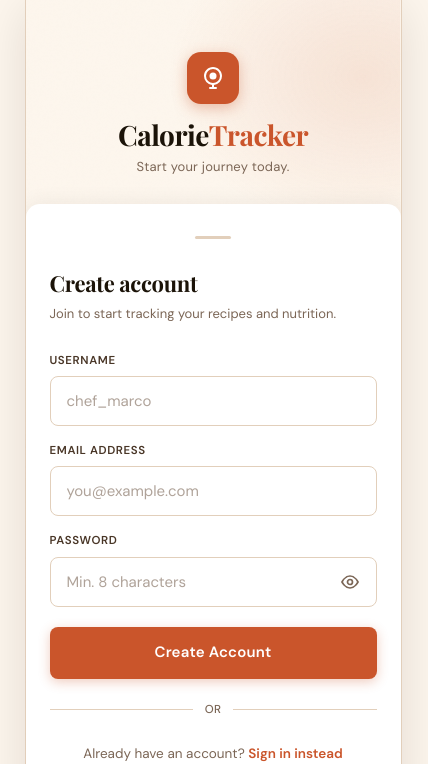
Test case: RegisterPage — validation › rejects a malformed email address
The image size is (428, 764).
Type "alice" into the field labelled "Username".
click(213, 401); type("alice")  # box [50,376,376,426]
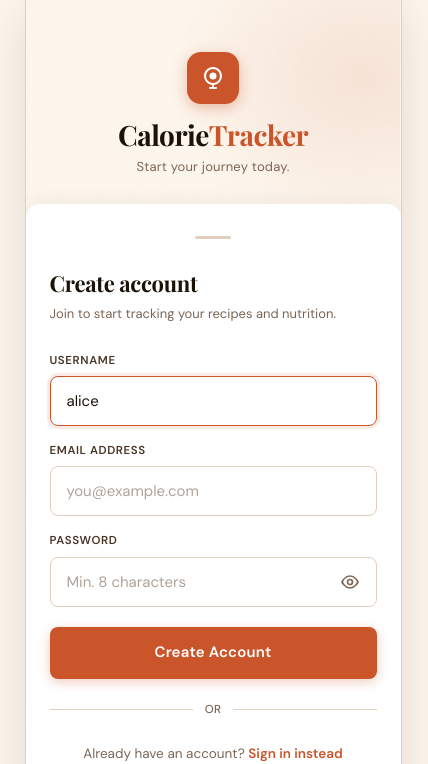
Type "not-an-email" into the field labelled "Email address".
click(213, 491); type("not-an-email")  # box [50,466,376,516]
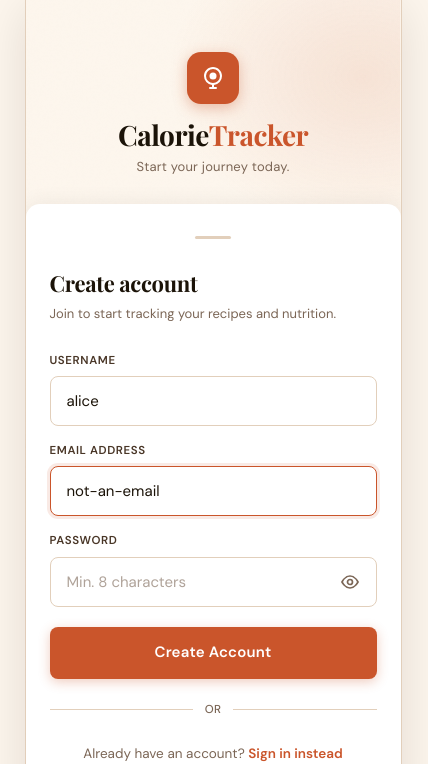
Type "password123" into the password field labelled "Password".
click(213, 582); type("password123")  # box [50,556,376,606]
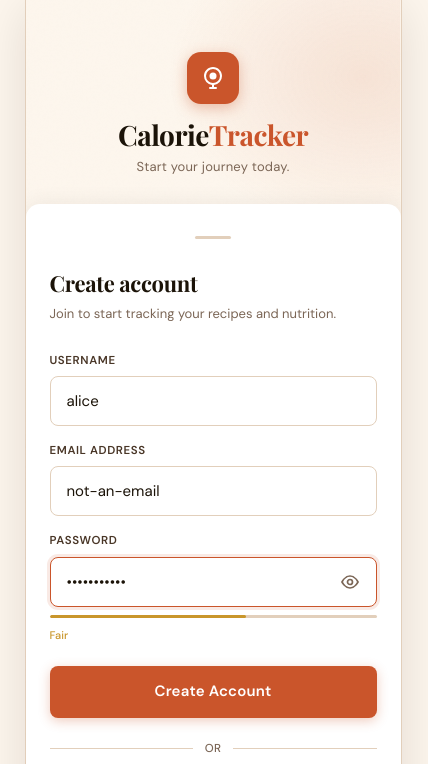
Click the button "Create Account".
click(213, 692)  # box [50,666,376,718]
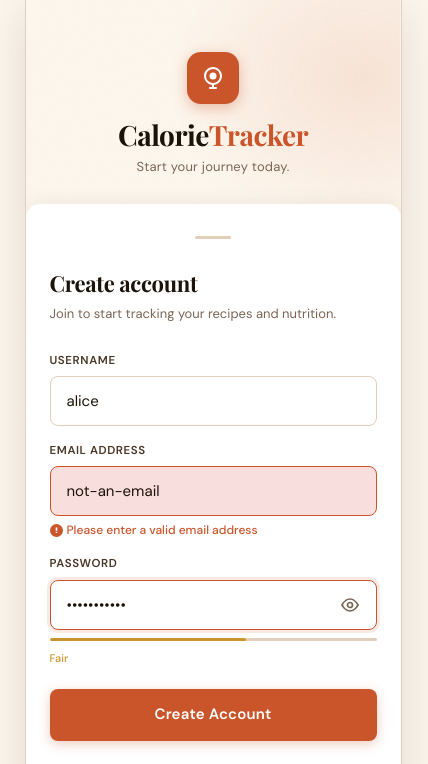
Expected: the text "Please enter a valid email address" is shown, [50,522,258,538]
